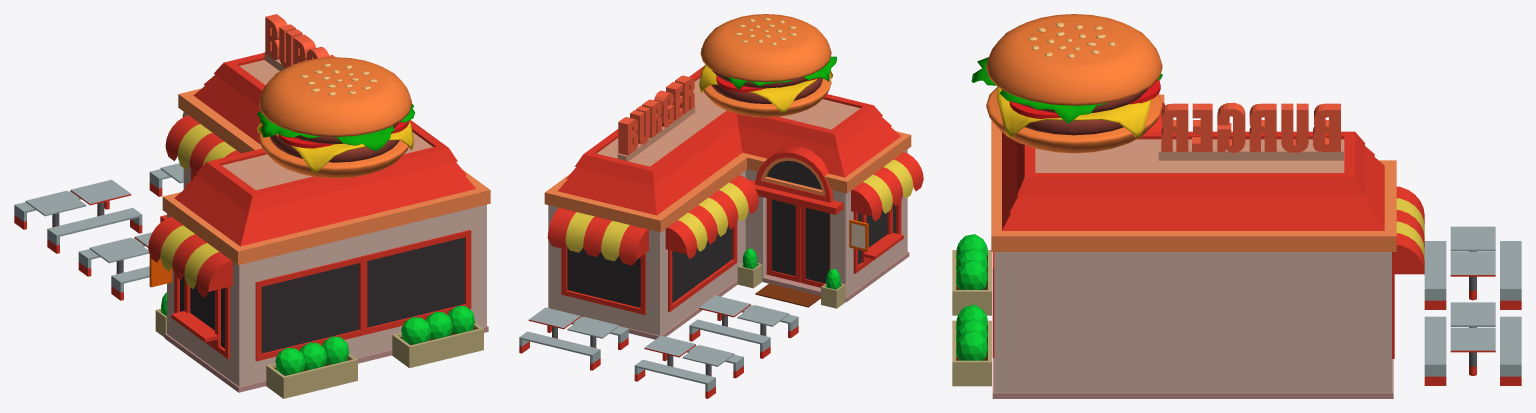
Rendered from burger.obj.
3 views of the same model, side by side, from view 1: azimuth 30°, elevation 25°; view 2: azimuth 150°, elevation 25°; view 3: azimuth 270°, elevation 25° (orthographic). The views are drawn at different scales.
Parts seen in each view (by area): view 1: burger:BurgerBuilding pasted__group4 group, pasted__group4 group burger:BurgerBurger, pasted__group4 group burger:BurgerPlants, pasted__group4 group burger:BurgerTables, pasted__group4 group burger:BurgerText; view 2: burger:BurgerBuilding pasted__group4 group, pasted__group4 group burger:BurgerBurger, pasted__group4 group burger:BurgerTables, pasted__group4 group burger:BurgerText, pasted__group4 group burger:BurgerPlants; view 3: burger:BurgerBuilding pasted__group4 group, pasted__group4 group burger:BurgerBurger, pasted__group4 group burger:BurgerTables, pasted__group4 group burger:BurgerText, pasted__group4 group burger:BurgerPlants.
Boxes of the visible parts, box(x1,y1,x2,y2) form: burger:BurgerBuilding pasted__group4 group: box(148, 52, 490, 392); pasted__group4 group burger:BurgerBurger: box(257, 57, 415, 178); pasted__group4 group burger:BurgerPlants: box(155, 292, 483, 398); pasted__group4 group burger:BurgerTables: box(14, 163, 183, 300); pasted__group4 group burger:BurgerText: box(264, 14, 335, 71); burger:BurgerBuilding pasted__group4 group: box(544, 66, 923, 339); pasted__group4 group burger:BurgerBurger: box(699, 14, 836, 117); pasted__group4 group burger:BurgerTables: box(519, 295, 798, 398); pasted__group4 group burger:BurgerText: box(617, 75, 695, 161); pasted__group4 group burger:BurgerPlants: box(737, 248, 845, 308); burger:BurgerBuilding pasted__group4 group: box(991, 94, 1424, 398); pasted__group4 group burger:BurgerBurger: box(971, 14, 1162, 153); pasted__group4 group burger:BurgerTables: box(1424, 226, 1521, 385); pasted__group4 group burger:BurgerText: box(1158, 102, 1343, 160); pasted__group4 group burger:BurgerPlants: box(952, 234, 991, 386).
Size of the model in its own units: 25.27 by 22.51 by 39.44.
1 material, 1 textured.
